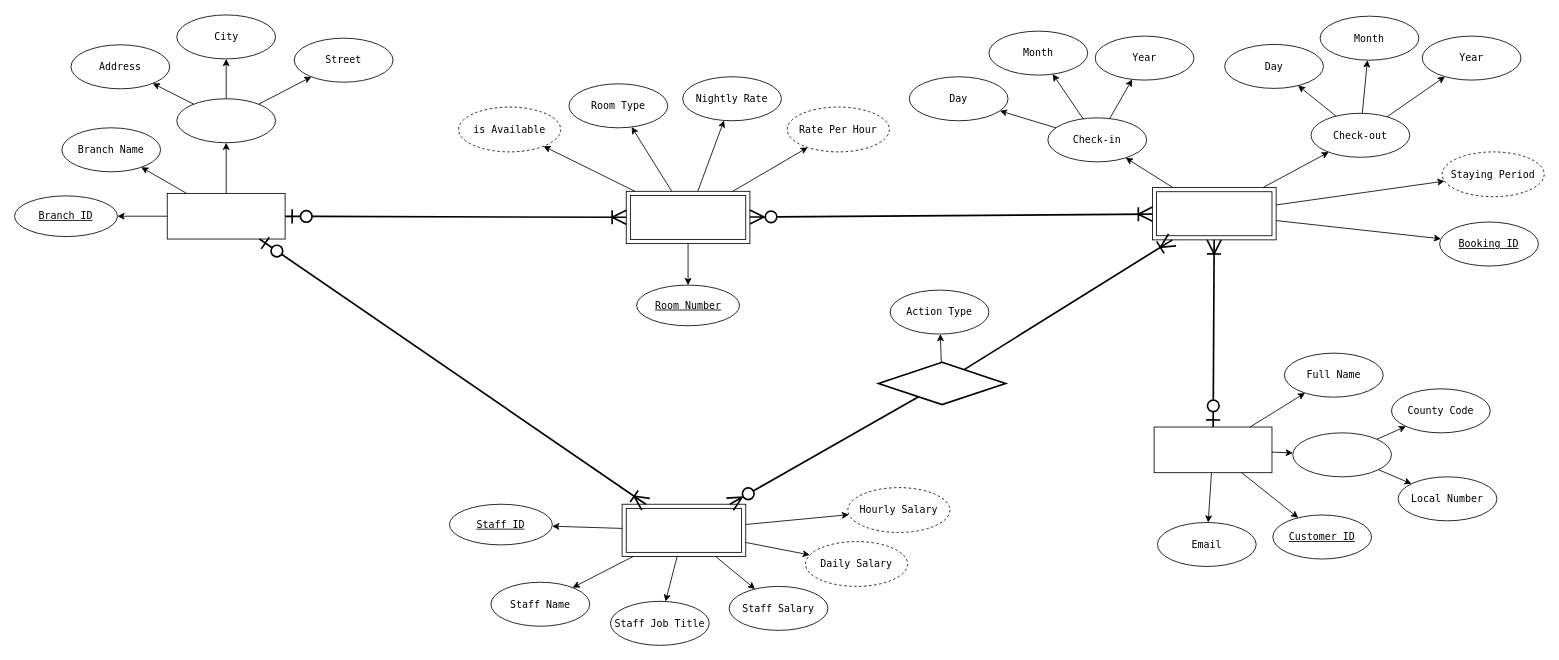
The diagram is 1559 pixels wide and 660 high, and some of its shapes have lost their labels. Here are the shapes that lost their labels. From the top down, the centre of each, then its label:
the point at 226,120: Branch Location
the point at 225,216: Branches
the point at 687,217: Rooms
the point at 1214,213: Booking
the point at 941,383: Check Action
the point at 1212,449: Customers
the point at 1341,454: Phone Number
the point at 683,530: Staff
